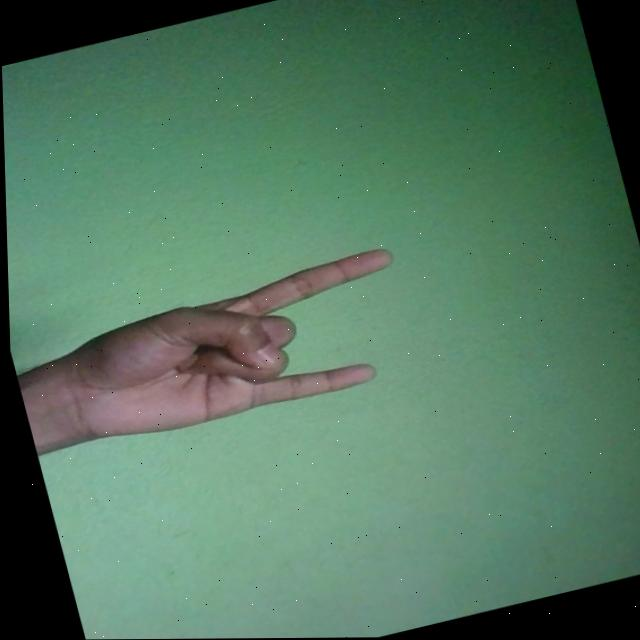Rock On: (35, 246, 424, 455)
